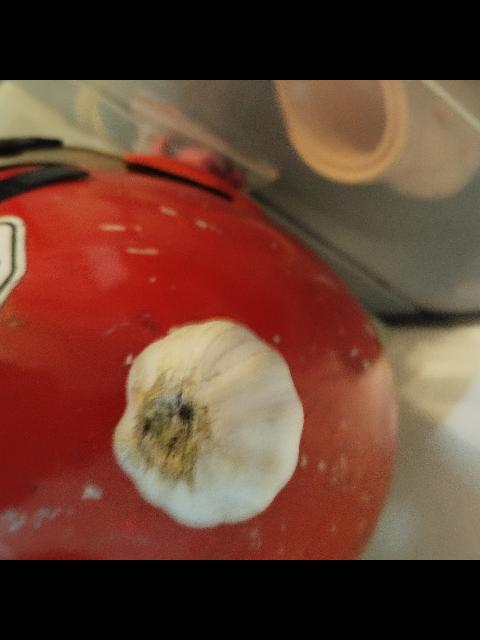garlic: (112, 319, 304, 529)
